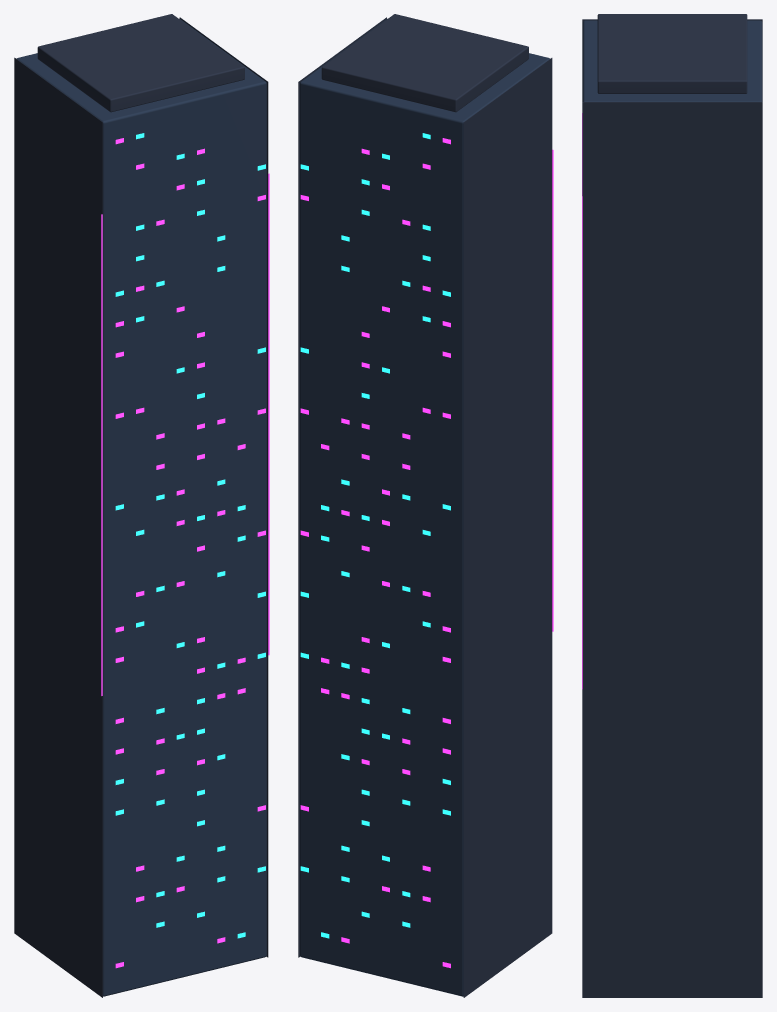
The model's file is Module_TowerB.fbx.
The picture shows the model from 3 angles, left to right: view 1: azimuth 30°, elevation 25°; view 2: azimuth 150°, elevation 25°; view 3: azimuth 270°, elevation 25°; orthographic projection. The views are drawn at different scales.
Visible parts, largest first — view 1: Tower structure.001, Facade seam.002, Crown.001, Window array.002, Window array.003, Facade seam.003, Vertical neon.003, Vertical neon.002; view 2: Tower structure.001, Facade seam.002, Crown.001, Window array.002, Window array.003, Facade seam.003, Vertical neon.002; view 3: Facade seam.003, Crown.001, Tower structure.001, Vertical neon.003.
Boxes of the visible parts, <box> form: Tower structure.001: <box>16,18,266,996</box>; Facade seam.002: <box>14,57,102,997</box>; Crown.001: <box>37,14,244,112</box>; Window array.002: <box>115,133,265,938</box>; Window array.003: <box>115,138,265,968</box>; Facade seam.003: <box>179,17,268,957</box>; Vertical neon.003: <box>268,173,269,655</box>; Vertical neon.002: <box>101,214,102,695</box>; Tower structure.001: <box>300,18,549,996</box>; Facade seam.002: <box>463,58,552,997</box>; Crown.001: <box>321,14,528,112</box>; Window array.002: <box>300,133,450,938</box>; Window array.003: <box>300,138,450,968</box>; Facade seam.003: <box>298,17,386,957</box>; Vertical neon.002: <box>552,149,553,631</box>; Facade seam.003: <box>582,102,762,997</box>; Crown.001: <box>597,14,747,93</box>; Tower structure.001: <box>582,20,762,101</box>; Vertical neon.003: <box>582,196,582,689</box>.
Size of the model in its own units: 13.25 by 67 by 12.08.
